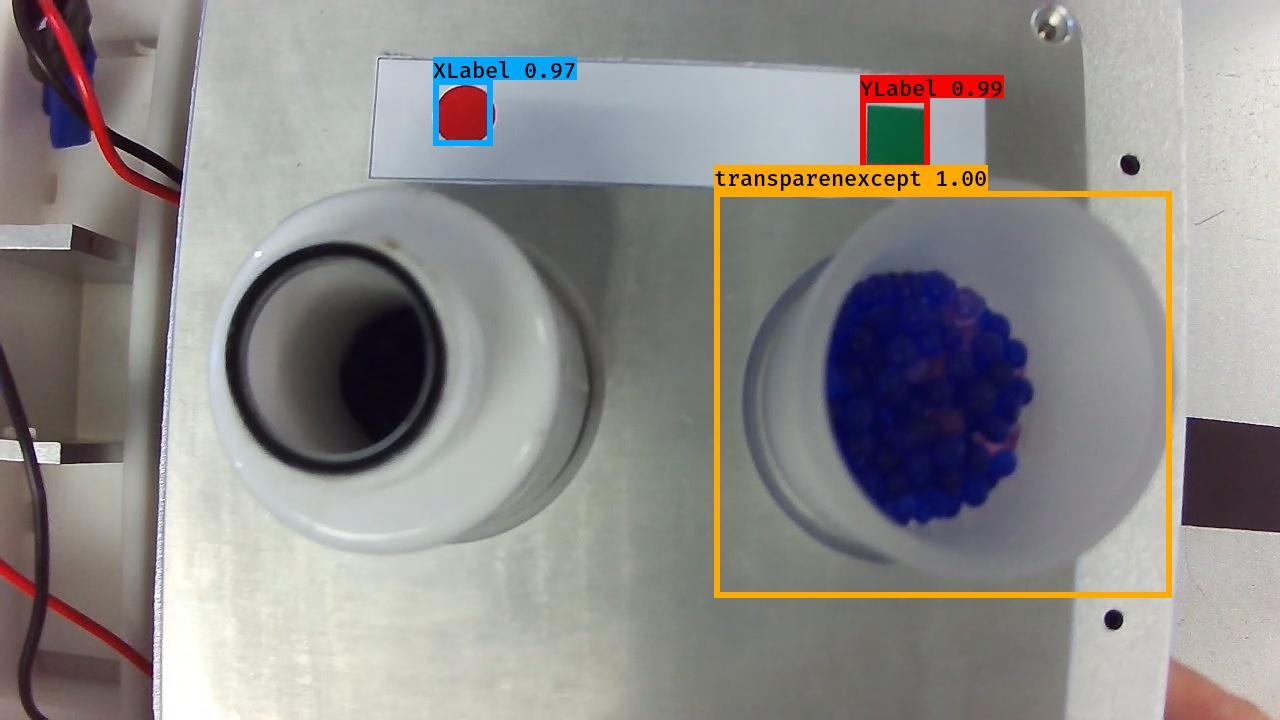XLabel: (431, 82, 498, 149)
YLabel: (863, 99, 931, 171)
transparenexcept: (742, 176, 1188, 585)
whiteexcept: (200, 177, 611, 557)
